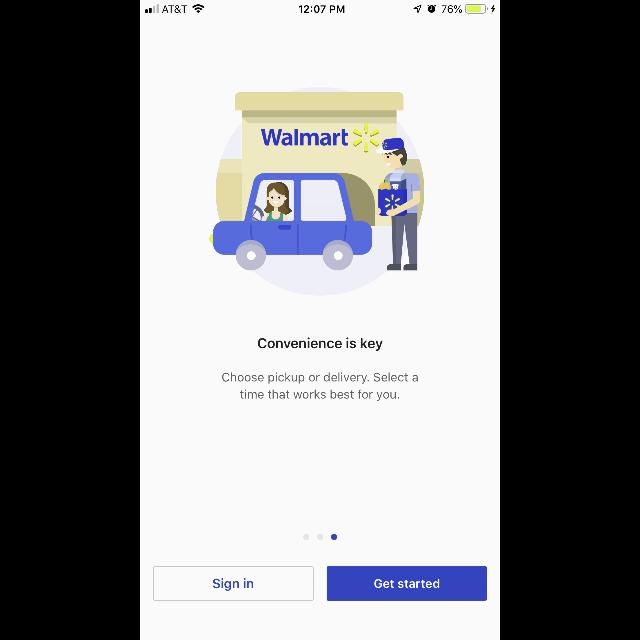image: (209, 87, 425, 296)
pageindicator: (303, 534, 337, 540)
text: (222, 373, 418, 401), (258, 338, 382, 350)
textbutton: (153, 566, 313, 600), (327, 566, 487, 600)
uppertaskbar: (140, 0, 500, 14)
